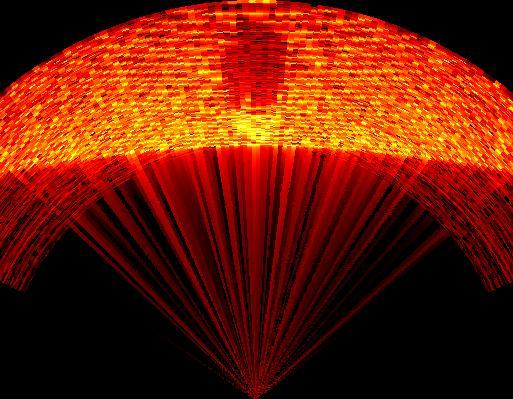box_crate: (225, 21, 292, 112)
